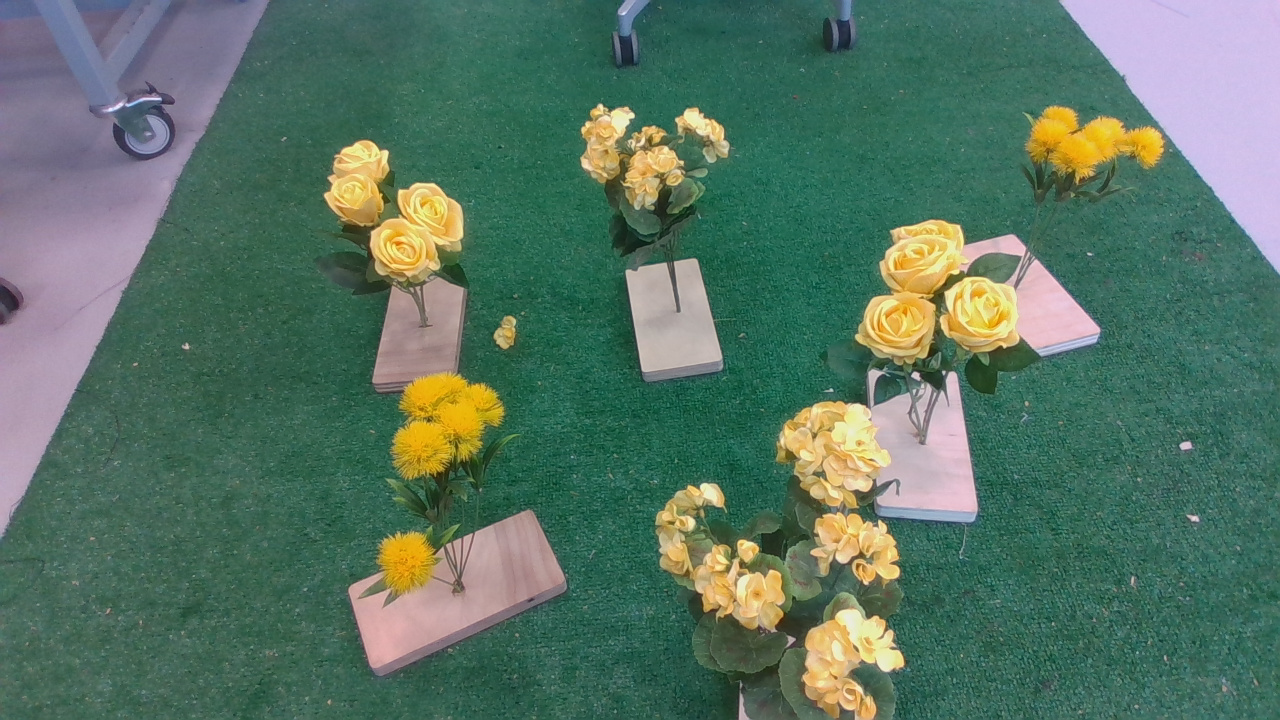dandelion: (360, 371, 530, 615), (1007, 89, 1178, 222)
geranium: (656, 404, 914, 720), (566, 94, 744, 274)
rose: (851, 217, 1045, 407), (308, 139, 489, 305)
